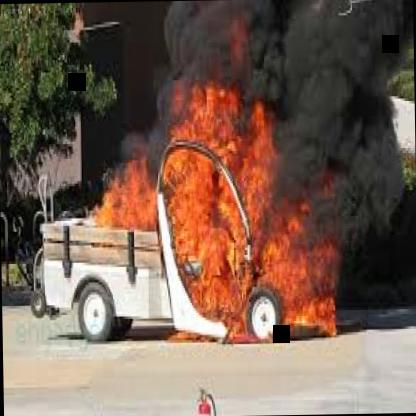fire: (129, 38, 370, 345)
